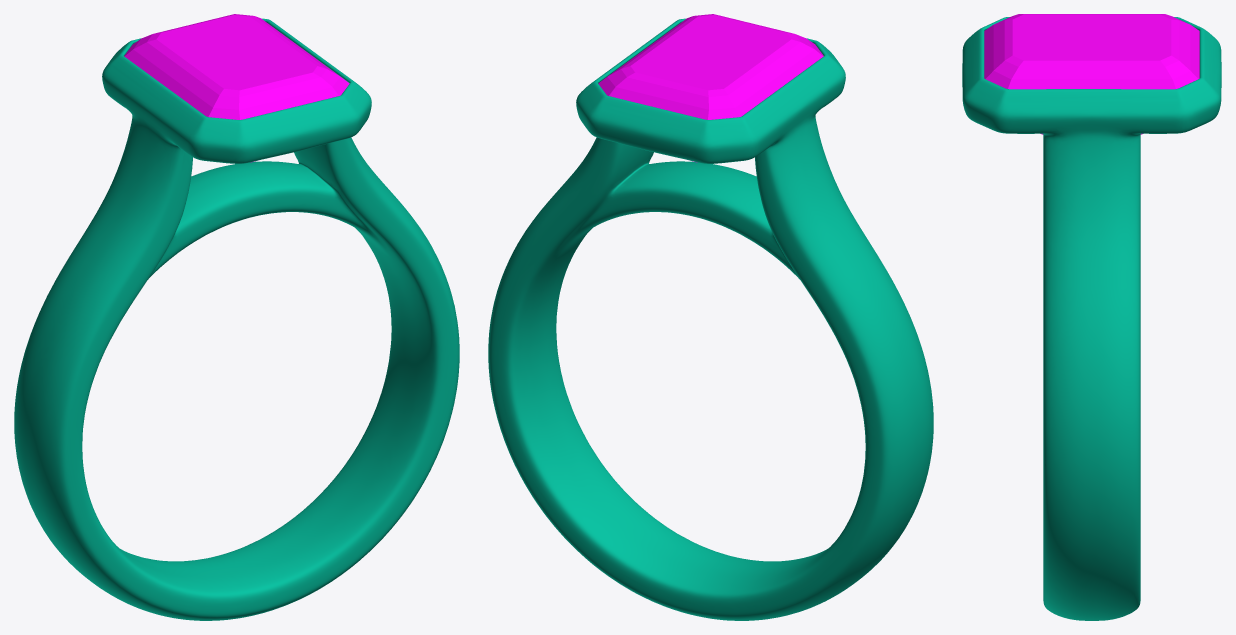
File: BE1964_EM_200ct_RENDER.glb
3 views of the same model, side by side, from view 1: azimuth 30°, elevation 25°; view 2: azimuth 150°, elevation 25°; view 3: azimuth 270°, elevation 25° (orthographic).
Visible parts, largest first — view 1: Metal 01, CS_Diamond_Emerald; view 2: Metal 01, CS_Diamond_Emerald; view 3: Metal 01, CS_Diamond_Emerald.
Boxes of the visible parts, bbox=[...] form: Metal 01: bbox=[14, 18, 459, 620]; CS_Diamond_Emerald: bbox=[124, 14, 349, 162]; Metal 01: bbox=[488, 18, 933, 620]; CS_Diamond_Emerald: bbox=[598, 14, 823, 162]; Metal 01: bbox=[962, 17, 1221, 620]; CS_Diamond_Emerald: bbox=[984, 14, 1199, 134].
Bounding box in the file's own units: 20.11 × 25.38 × 10.65.
